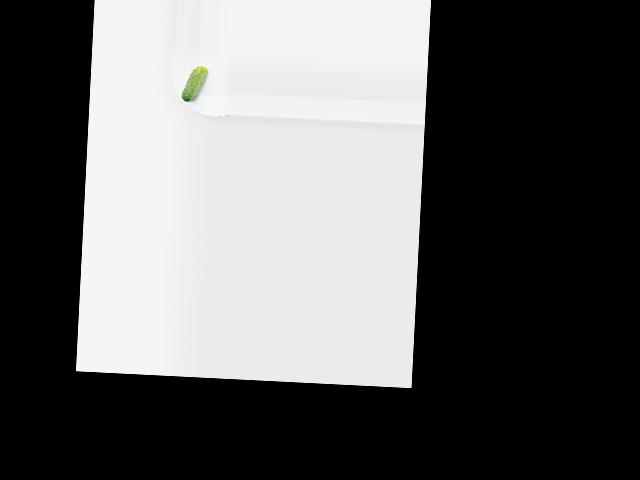cucumber: (181, 65, 208, 102)
